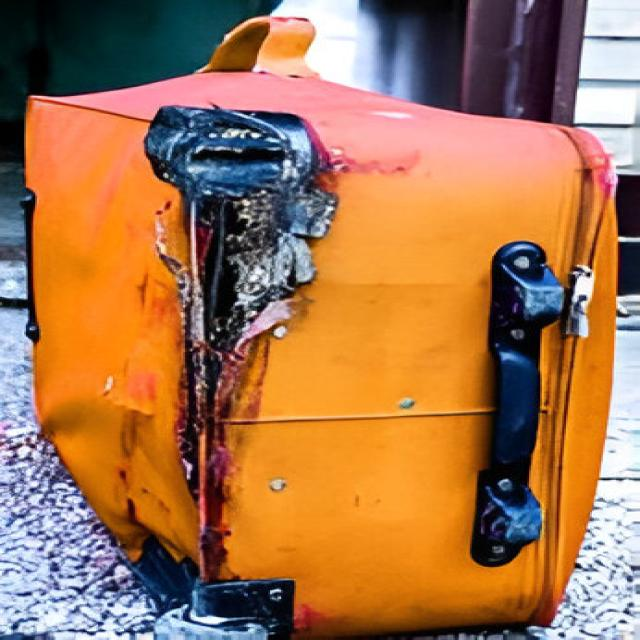Damage-bag: (107, 106, 419, 601)
